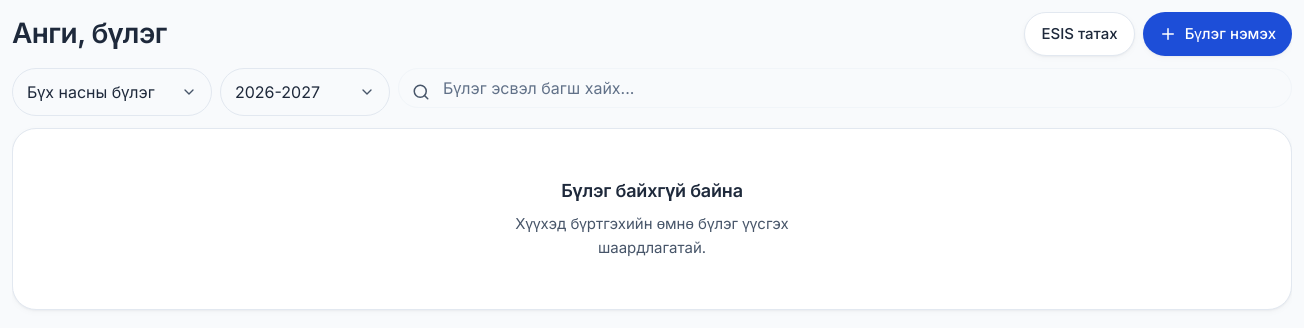
Test: making a school year from the group list › keeps it out of an ESIS kindergarten's picker once a year exists
Click the dropdown named "Хичээлийн жил": (305, 92) [220, 68, 390, 116]
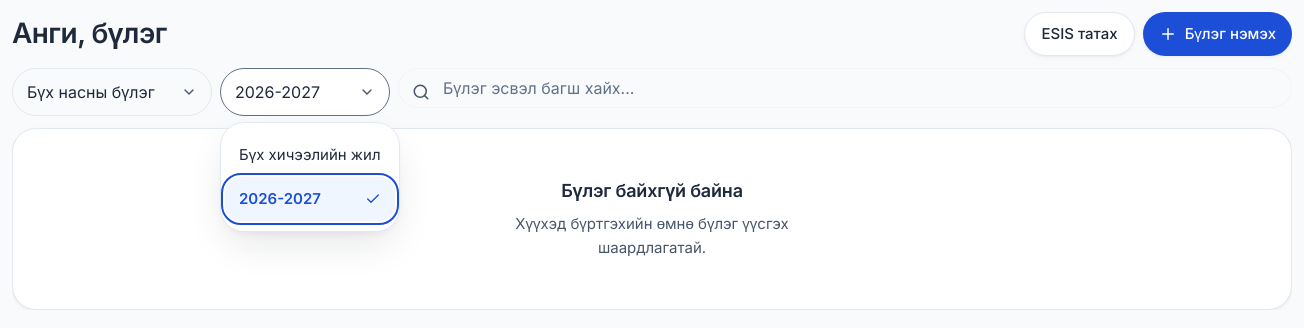
Check: the option "2026-2027" is shown, box [225, 177, 394, 221]
